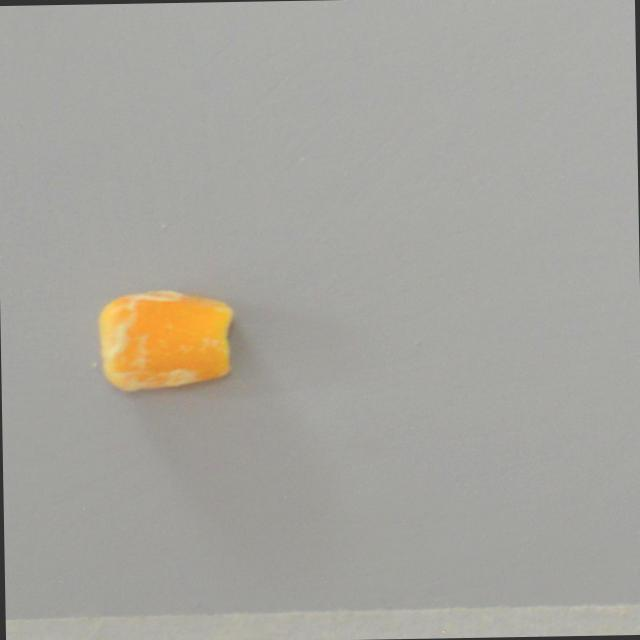dañado: (92, 276, 243, 394)
